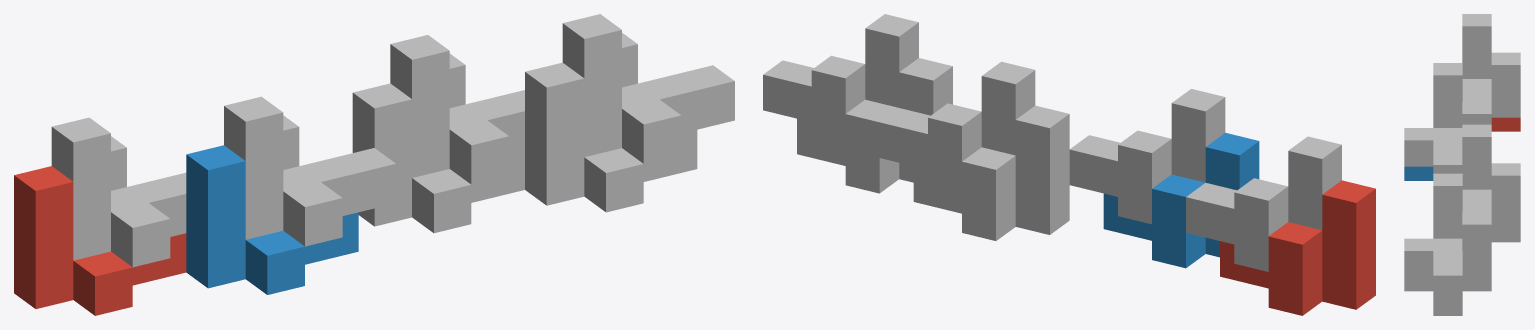
Rendered from tiling.obj.
The picture shows the model from 3 angles, left to right: view 1: azimuth 30°, elevation 25°; view 2: azimuth 150°, elevation 25°; view 3: azimuth 270°, elevation 25°; orthographic projection. The views are drawn at different scales.
Parts seen in each view (by area): view 1: copy_1_domain_4, copy_1_domain_8, copy_1_domain_3, copy_1_domain_7, copy_1_domain_2, copy_1_domain_1, copy_1_domain_6, copy_1_domain_5; view 2: copy_1_domain_5, copy_1_domain_1, copy_1_domain_4, copy_1_domain_7, copy_1_domain_3, copy_1_domain_8, copy_1_domain_6, copy_1_domain_2; view 3: copy_1_domain_8, copy_1_domain_4, copy_1_domain_7, copy_1_domain_3, copy_1_domain_6, copy_1_domain_1, copy_1_domain_2, copy_1_domain_5.
Part boxes in pixels (<box>): copy_1_domain_4: <box>224,96,396,246</box>; copy_1_domain_8: <box>562,14,734,163</box>; copy_1_domain_3: <box>51,117,186,267</box>; copy_1_domain_7: <box>390,35,524,184</box>; copy_1_domain_2: <box>186,145,358,294</box>; copy_1_domain_1: <box>14,166,186,315</box>; copy_1_domain_6: <box>525,62,697,212</box>; copy_1_domain_5: <box>352,83,524,233</box>; copy_1_domain_5: <box>913,105,1069,240</box>; copy_1_domain_1: <box>1220,180,1375,315</box>; copy_1_domain_4: <box>1069,89,1225,224</box>; copy_1_domain_7: <box>879,61,1035,196</box>; copy_1_domain_3: <box>1186,136,1341,271</box>; copy_1_domain_8: <box>763,14,918,149</box>; copy_1_domain_6: <box>797,58,952,193</box>; copy_1_domain_2: <box>1103,132,1259,268</box>; copy_1_domain_8: <box>1404,173,1491,301</box>; copy_1_domain_4: <box>1404,63,1491,173</box>; copy_1_domain_7: <box>1462,124,1520,228</box>; copy_1_domain_3: <box>1462,14,1520,117</box>; copy_1_domain_6: <box>1404,277,1491,315</box>; copy_1_domain_1: <box>1491,117,1520,131</box>; copy_1_domain_2: <box>1404,166,1433,180</box>; copy_1_domain_5: <box>1491,228,1520,242</box>.
Bounding box in the file's own units: 18 × 4 × 4.
